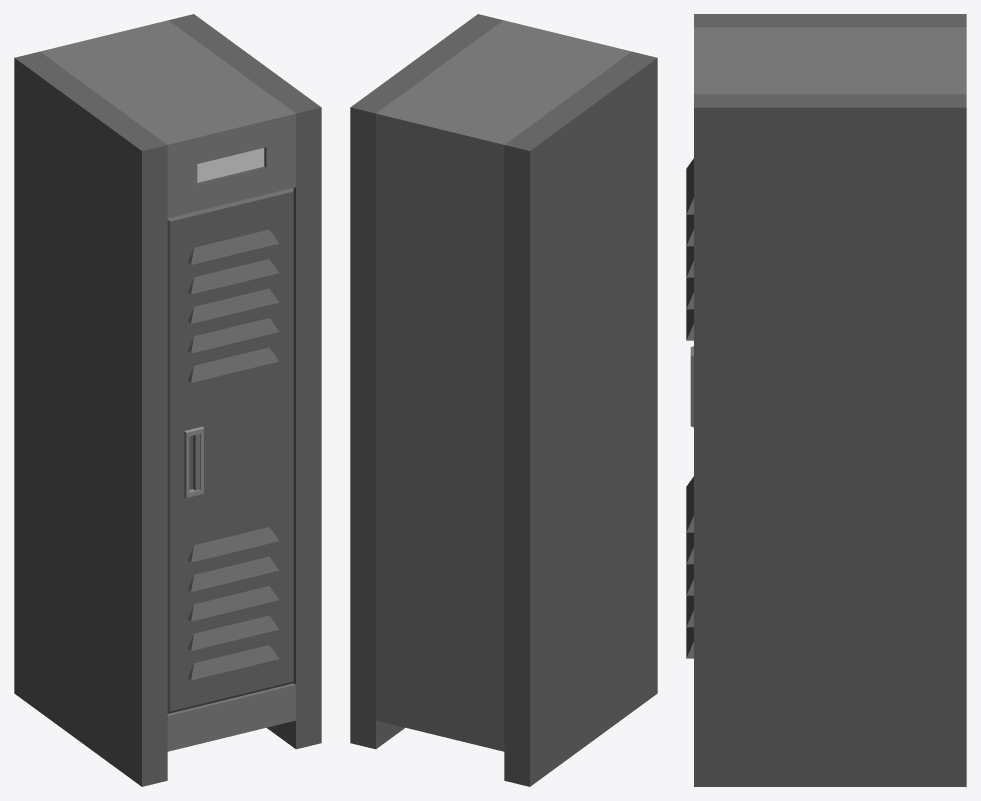
File: Int_Locker02_1.fbx
3 renders of one model, left to right at view 1: azimuth 30°, elevation 25°; view 2: azimuth 150°, elevation 25°; view 3: azimuth 270°, elevation 25°, orthographic. The views are drawn at different scales.
Parts seen in each view (by area): view 1: Int_Locker02_1, Int_LockerDoor01_1; view 2: Int_Locker02_1; view 3: Int_Locker02_1, Int_LockerDoor01_1.
Boxes of the visible parts, box(x1,y1,x2,y2) form: Int_Locker02_1: box(14, 14, 321, 786); Int_LockerDoor01_1: box(167, 187, 293, 713); Int_Locker02_1: box(350, 14, 657, 786); Int_Locker02_1: box(694, 14, 966, 786); Int_LockerDoor01_1: box(686, 158, 693, 658).
Size of what is drawn, in the model's own units: 65 by 82.21 by 220.
